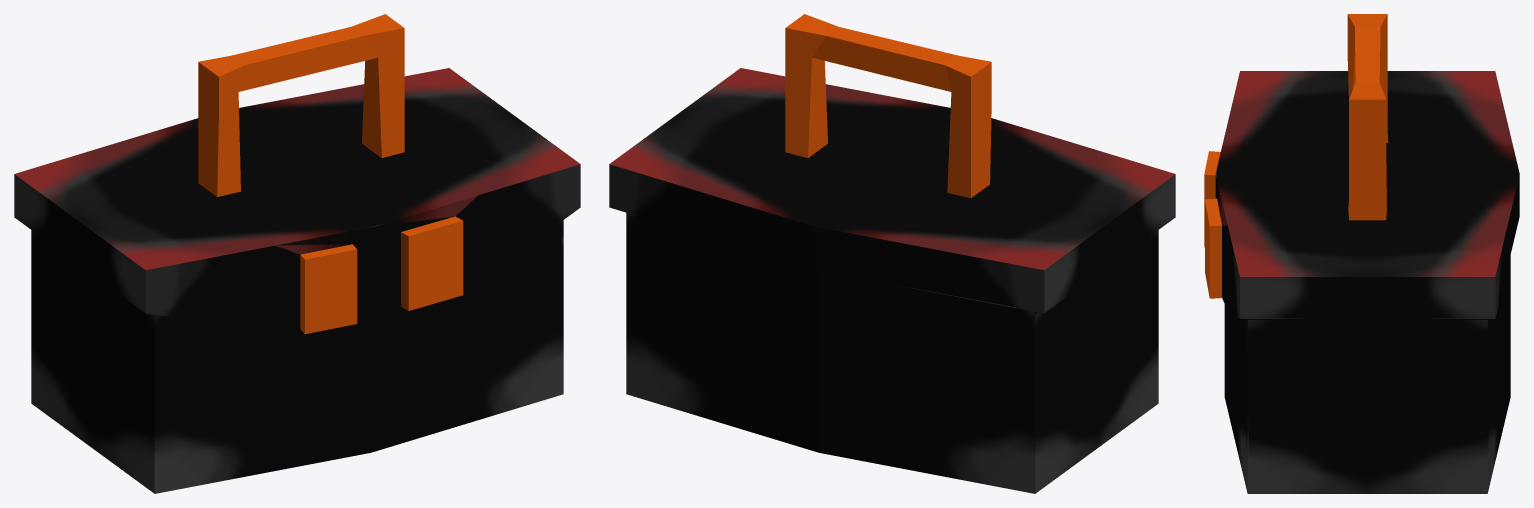
File: Toolbox.glb
3 renders of one model, left to right at view 1: azimuth 30°, elevation 25°; view 2: azimuth 150°, elevation 25°; view 3: azimuth 270°, elevation 25°, orthographic. The views are drawn at different scales.
Parts seen in each view (by area): view 1: Cube; view 2: Cube; view 3: Cube.
Part boxes in pixels (x1=…): Cube: x1=14, y1=14, x2=580, y2=493; Cube: x1=609, y1=14, x2=1175, y2=493; Cube: x1=1204, y1=14, x2=1519, y2=493.
Size of the model in its own units: 0.3434 by 0.2671 by 0.2223.
Materials: 2 (1 with a texture image).
